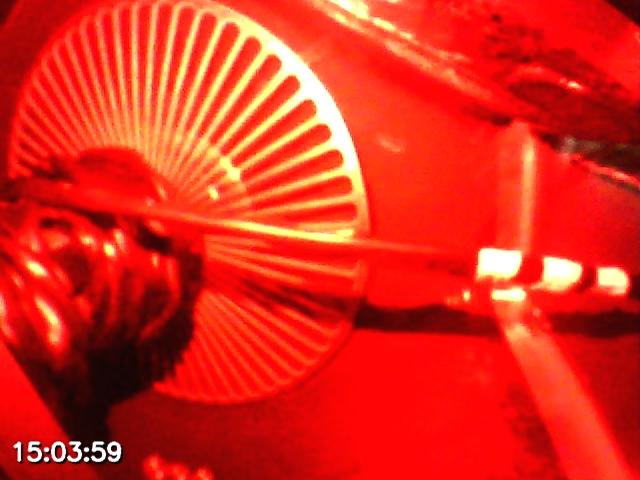white-dots: (477, 249, 630, 304)
